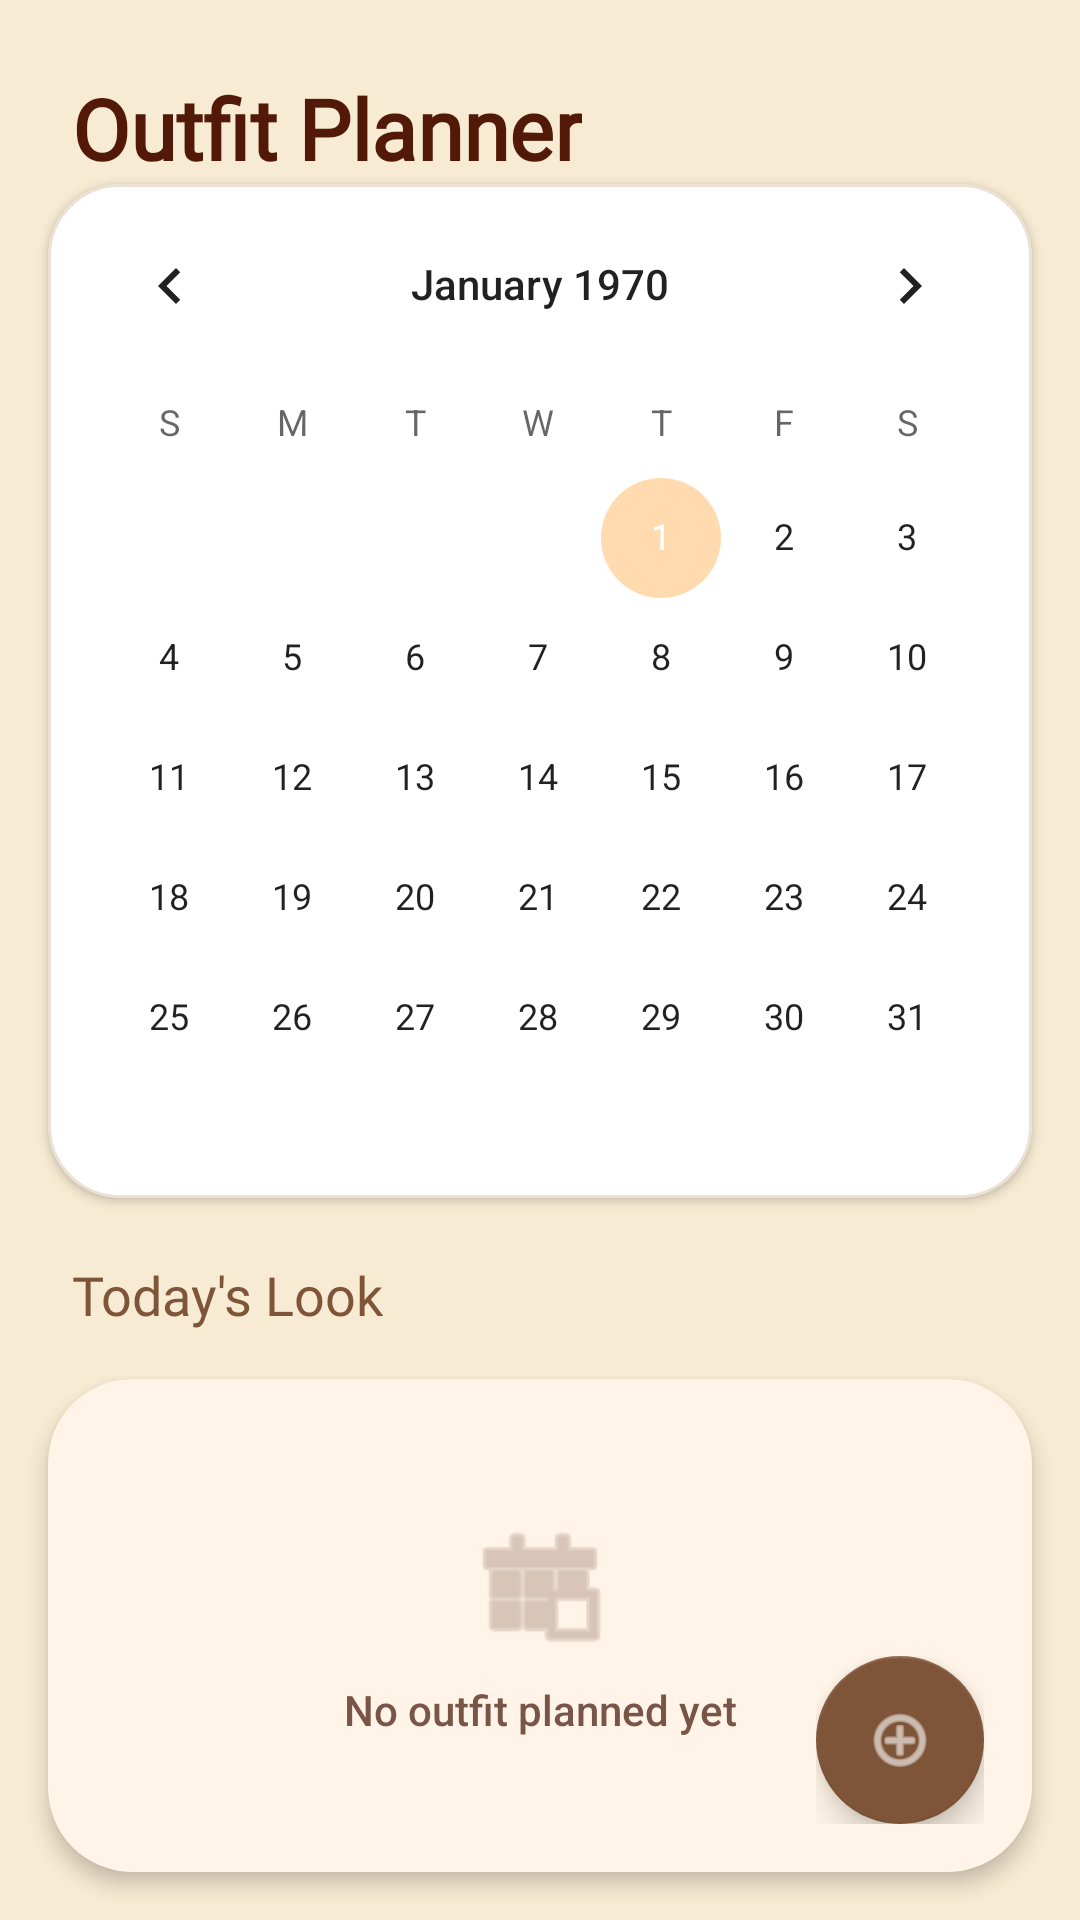

Icons on this 1080*1920 Android screen, each with the point to tap as (x,y):
today: (541,1587)
